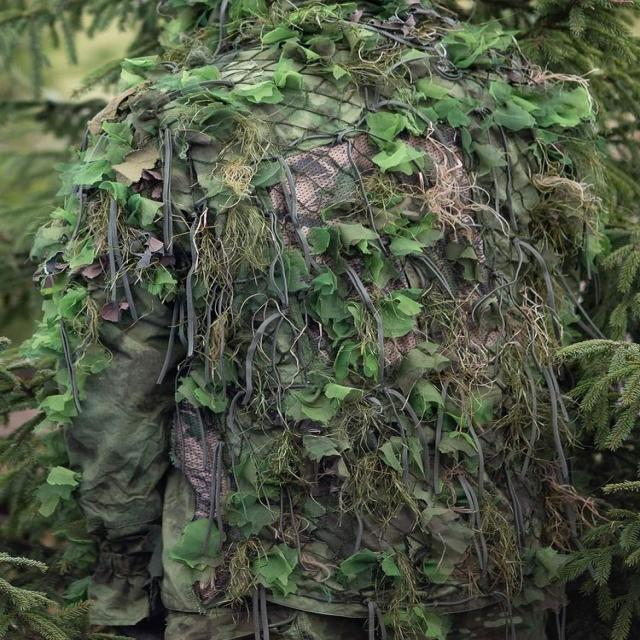Camouflage: (31, 2, 611, 614)
